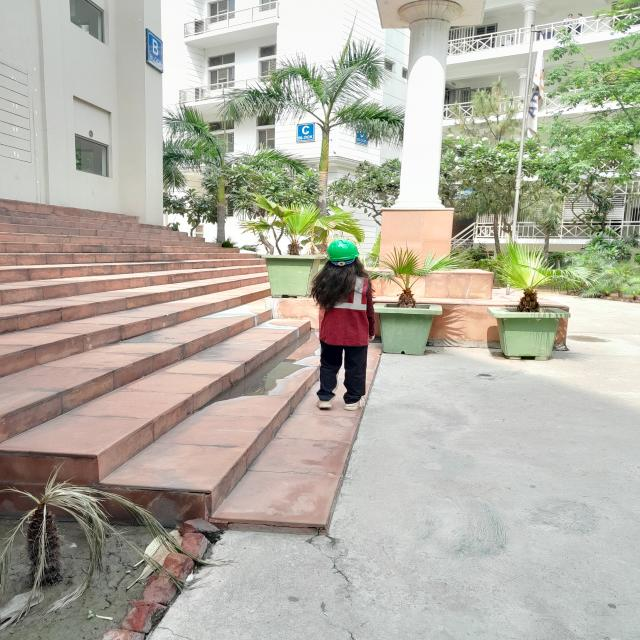safe: (313, 238, 377, 412)
